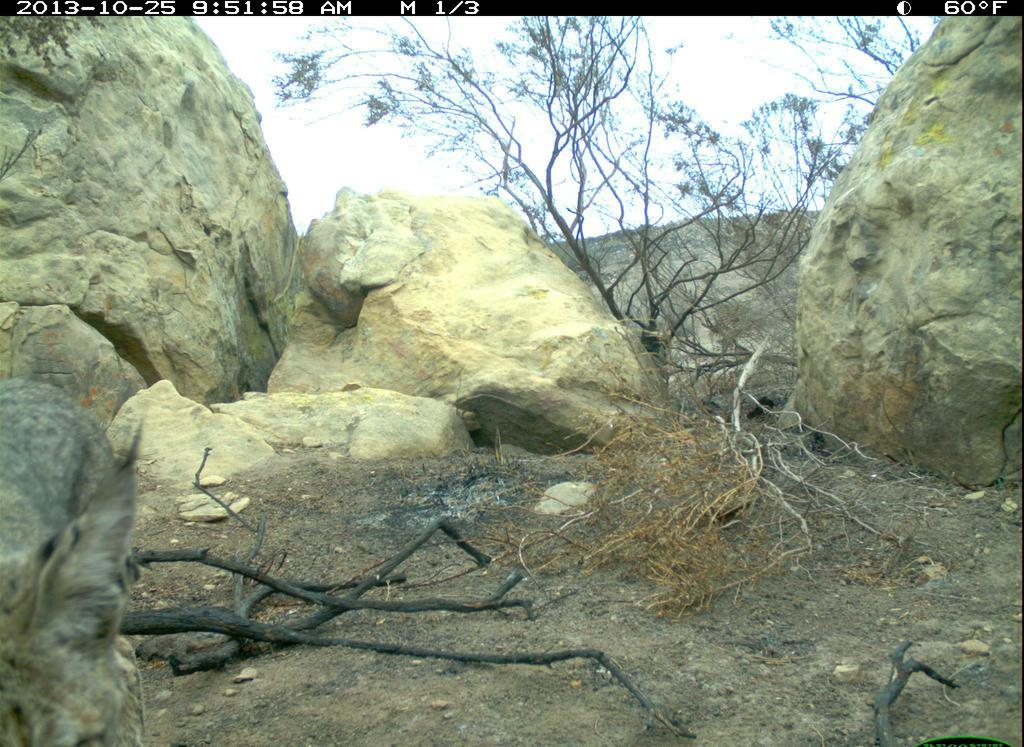bobcat: (2, 369, 157, 747)
